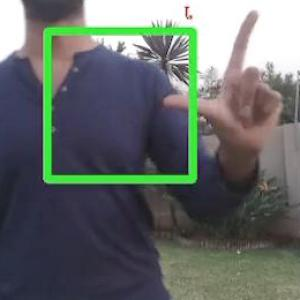land_hand: (165, 6, 288, 150)
